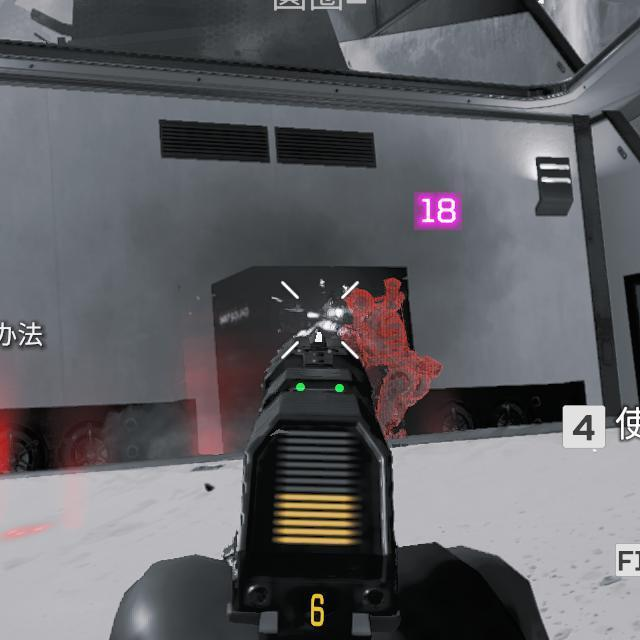avatar: (341, 276, 445, 442)
